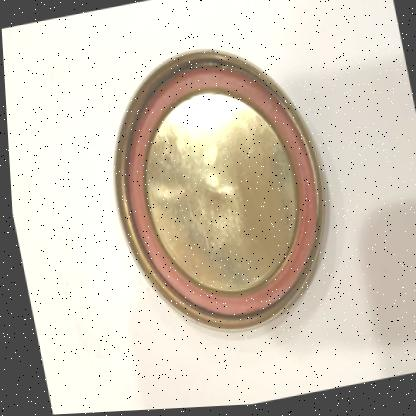Metal: (111, 50, 321, 332)
